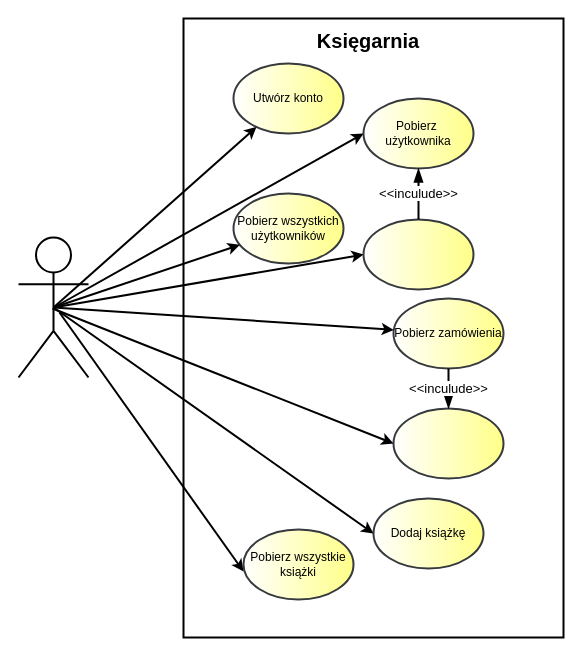
Image size: 581x655. Some labels were removed from this diagram. The shapes that lost their labels are listed below. From the top down, each one's box as (x1, y1, x2, y2) in pixels, then its label:
(362, 218, 474, 290): Utwórz zamówienie
(17, 236, 89, 378): Użytkownik
(392, 407, 504, 479): Pobierz książkę
